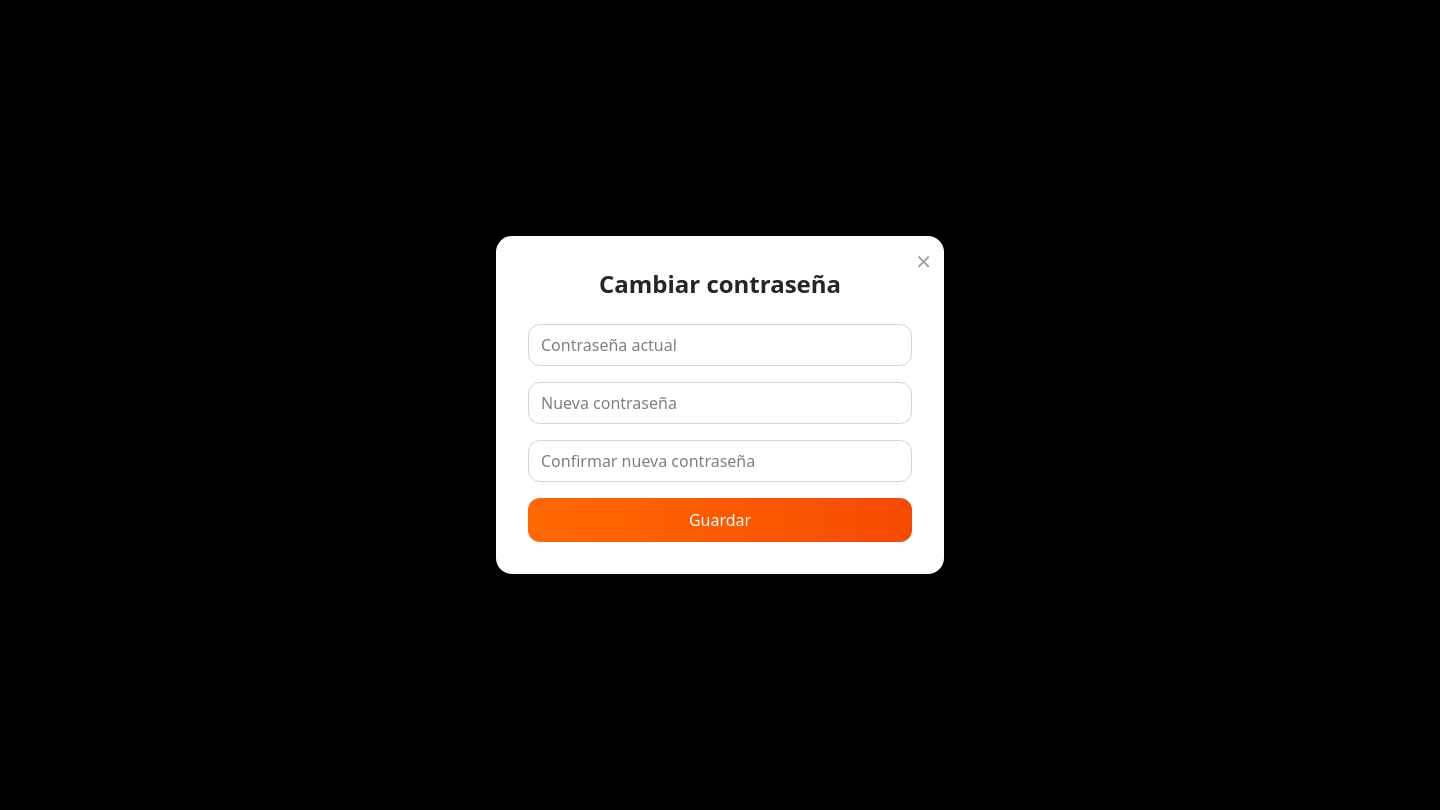
Scenario: ChangePasswordModal › debería mostrar error si las contraseñas no coinciden
Type "123456" into the password field with placeholder "Contraseña actual" at {"x": 720, "y": 345}, box [528,324,912,366]
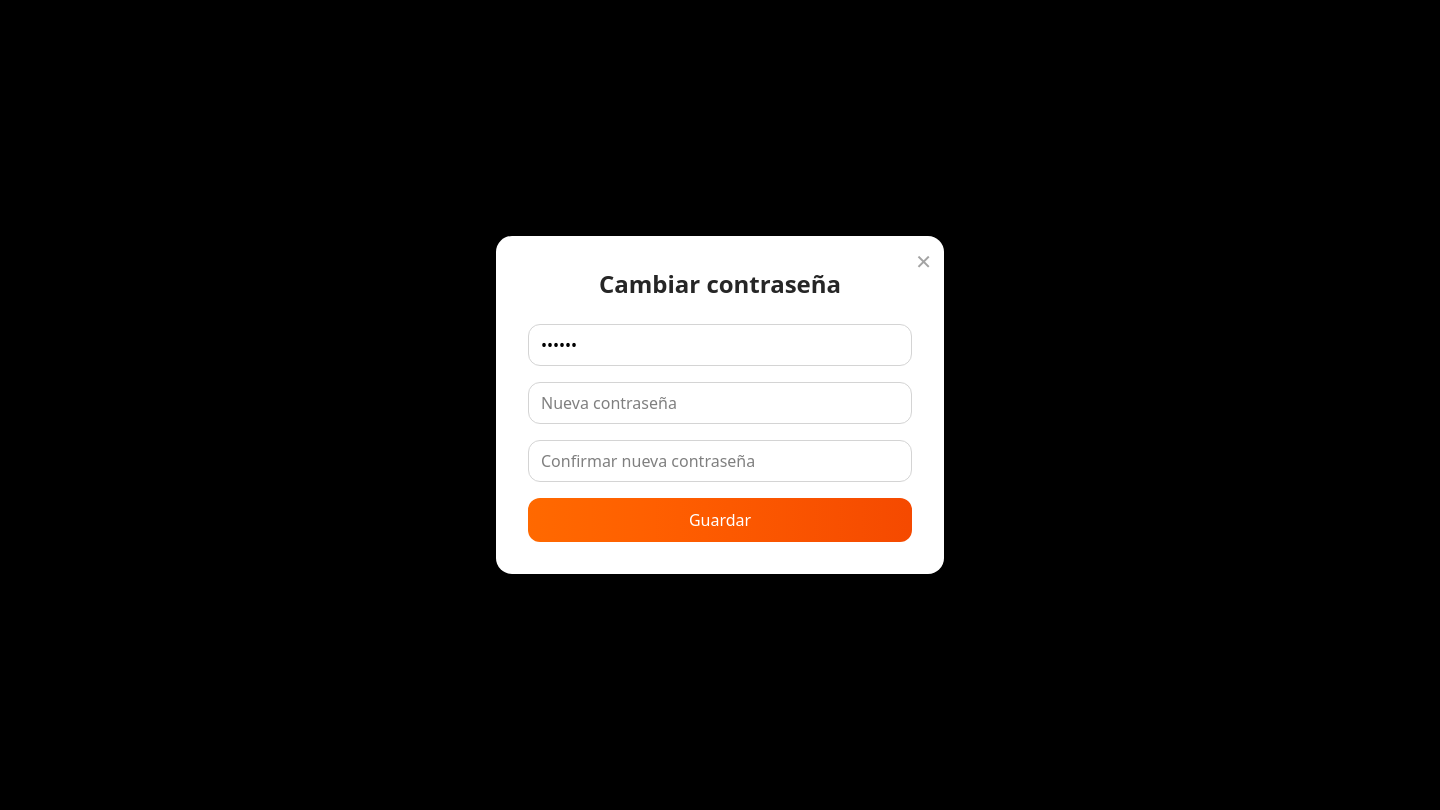
Type "abcdef" into the password field with placeholder "Nueva contraseña" at {"x": 720, "y": 403}, box [528,382,912,424]
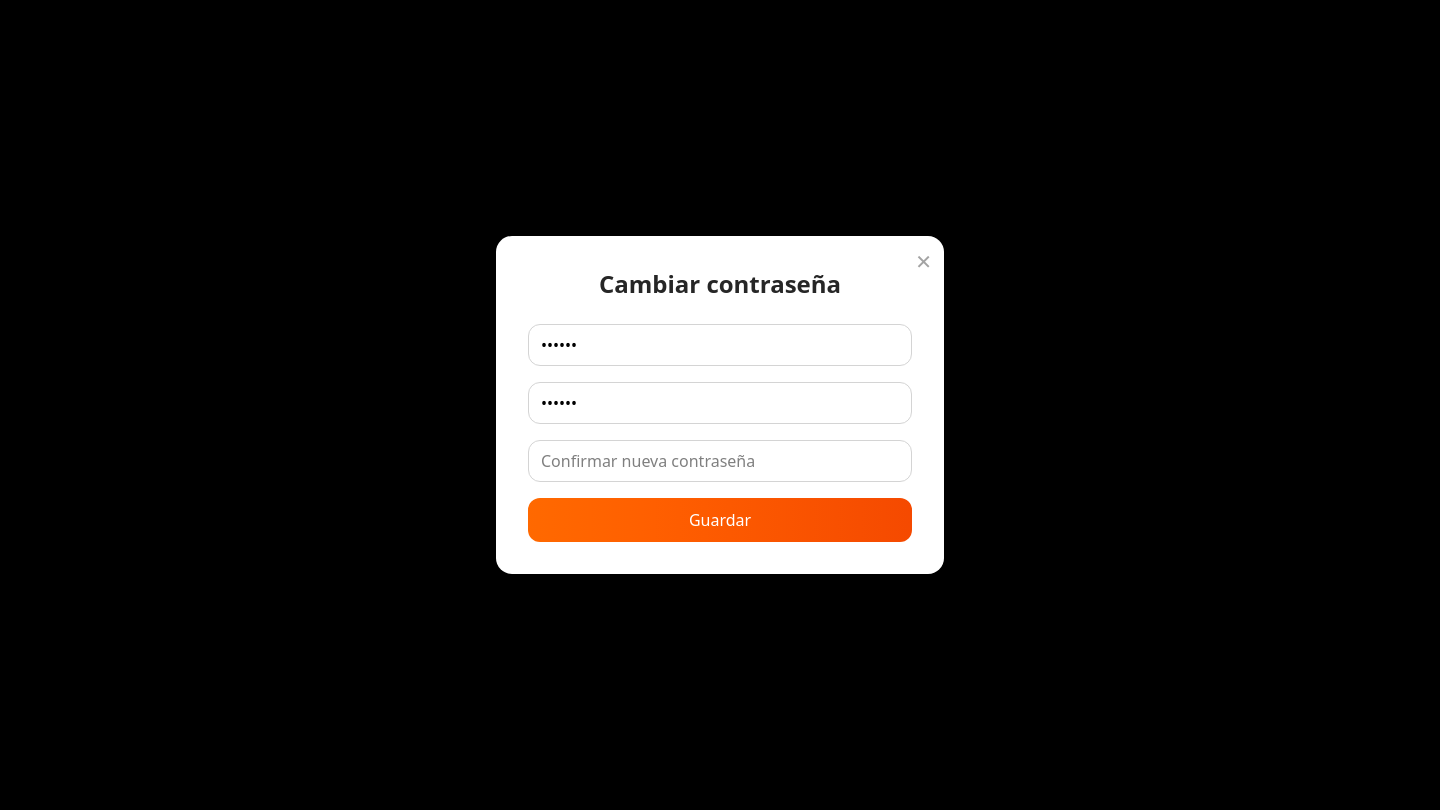
Type "abc123" into the password field with placeholder "Confirmar nueva contraseña" at {"x": 720, "y": 461}, box [528,440,912,482]
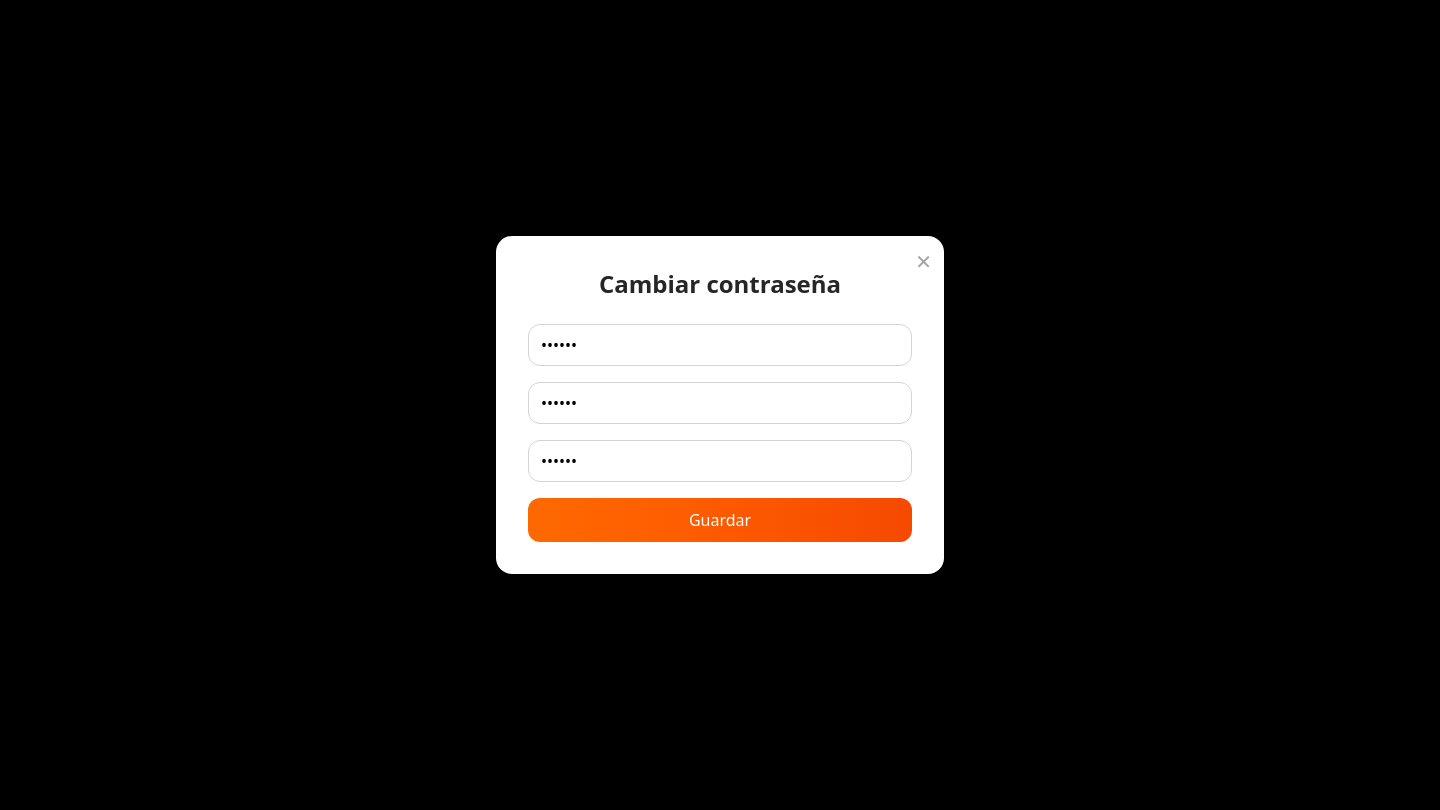
Click the button "Guardar" at {"x": 720, "y": 520}, box [528,498,912,542]
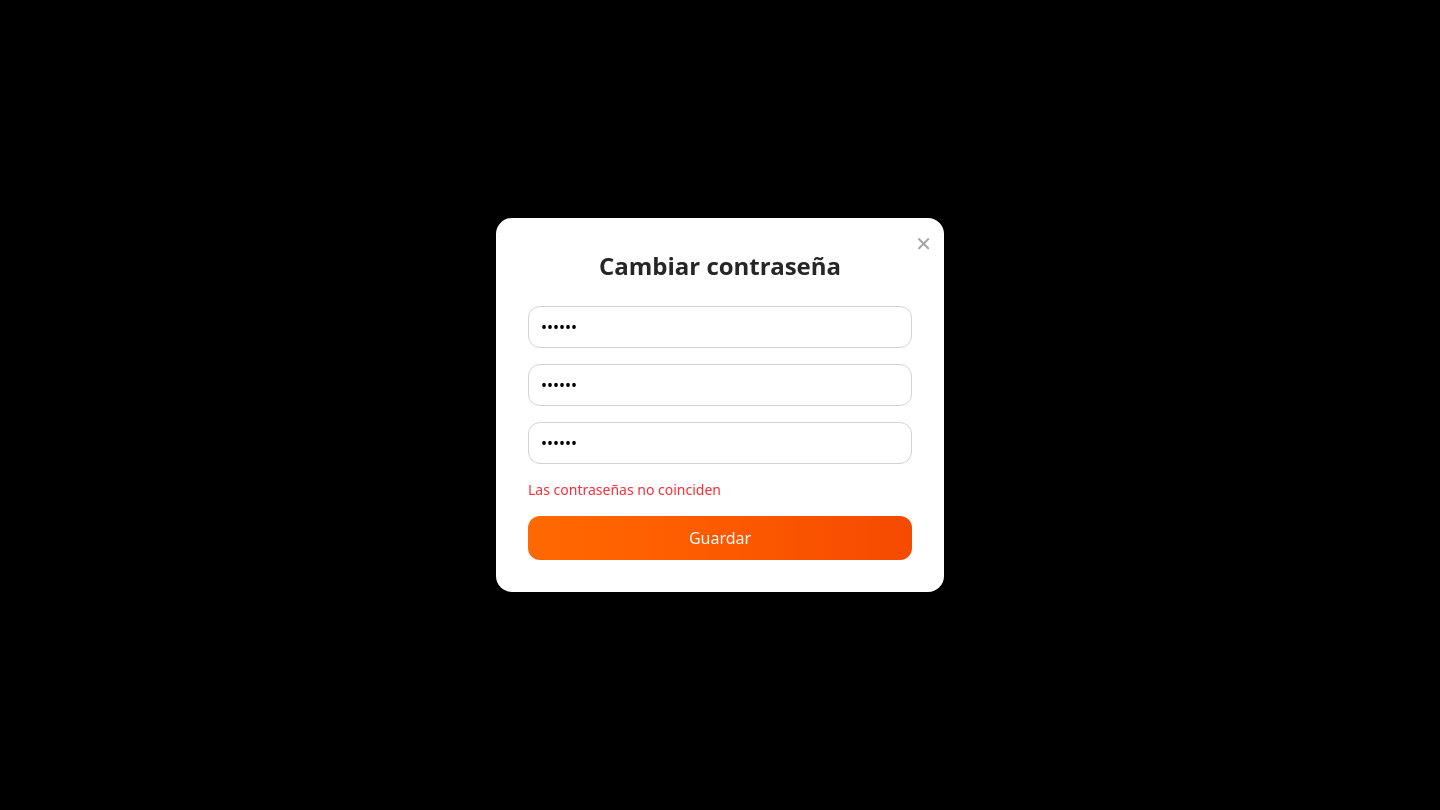
Result: the text "Las contraseñas no coinciden" is shown at [528,480,721,499]
